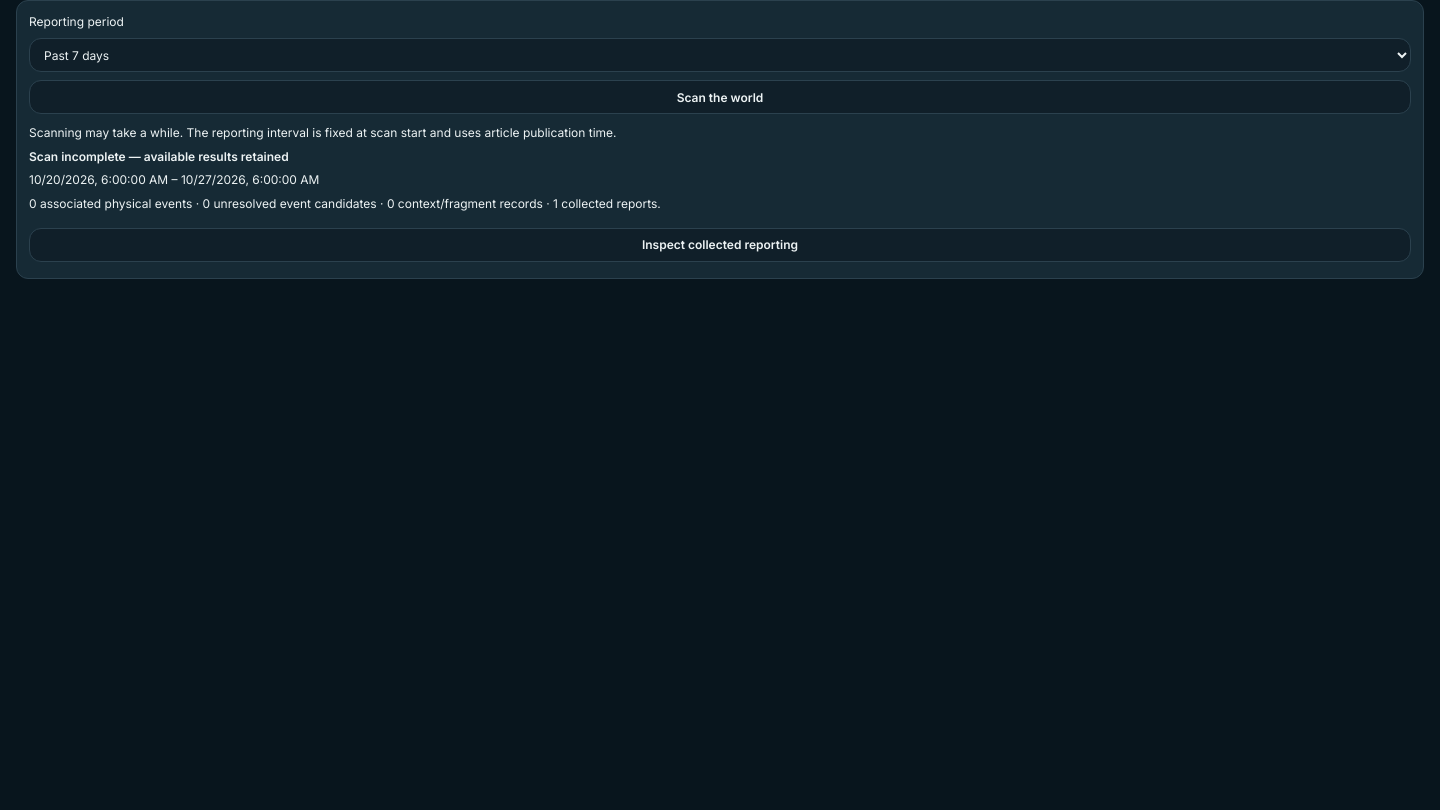
Scenario: keeps loaded reporting visible after a changed-catalog response and allows reload
Step 1. Click the button "Inspect collected reporting" → (720, 245), box [29, 228, 1411, 262]
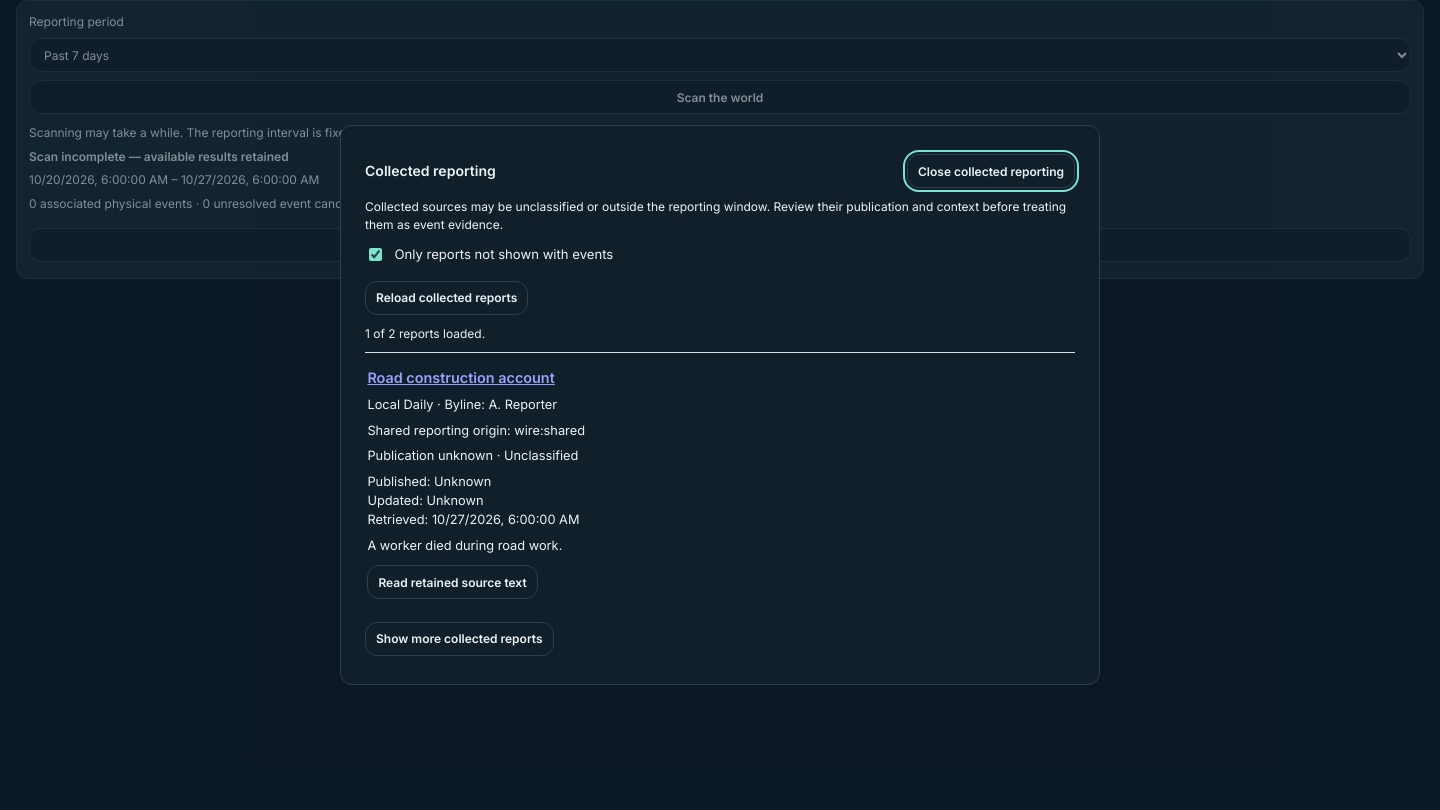
Now the element "Road construction account" is shown, box [365, 352, 1075, 618]
Step 2. Click the button "Show more collected reports" → (459, 639), box [365, 622, 554, 656]
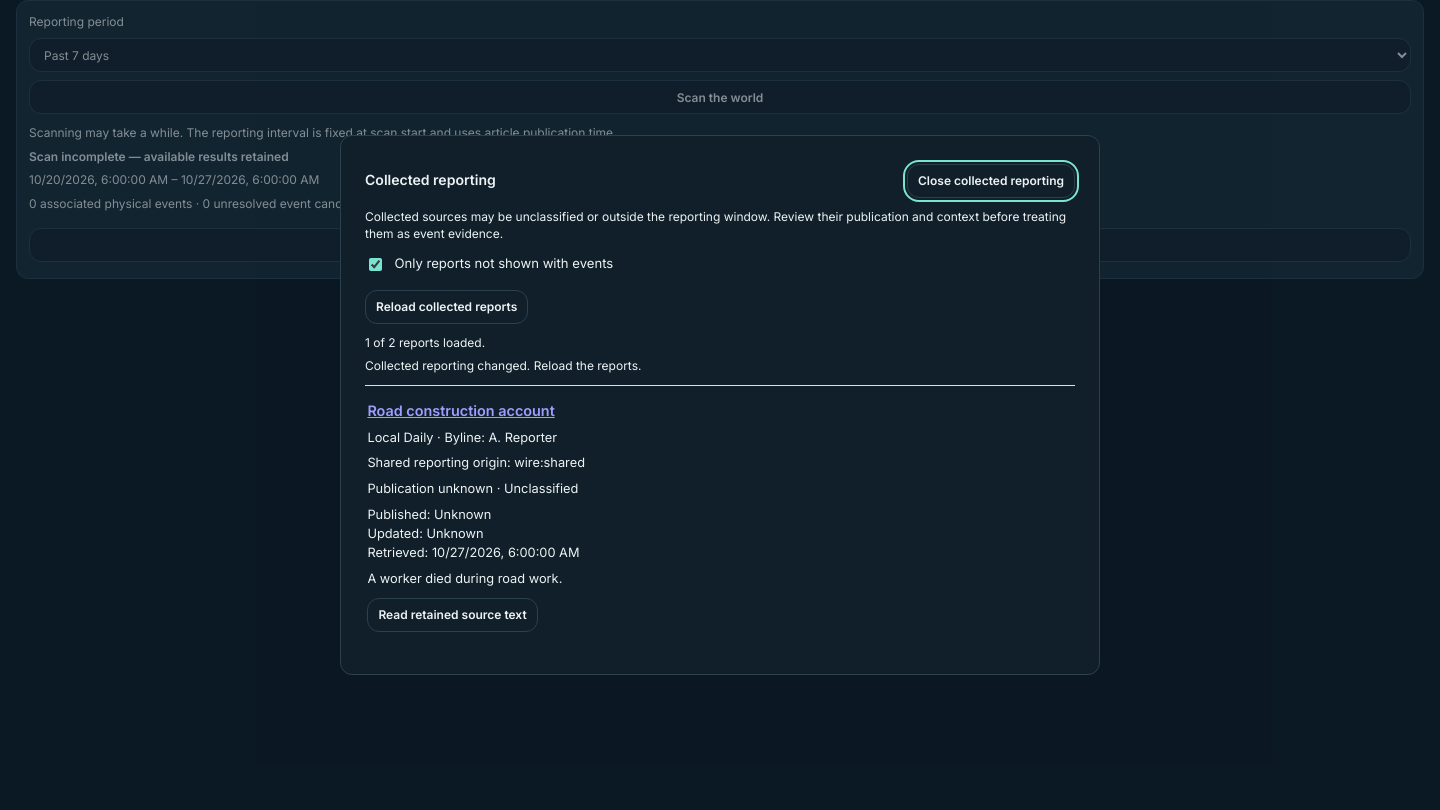
Now the element "Road construction account" is shown, box [365, 385, 1075, 650]
Now the message "Collected reporting changed. Reload the reports." is shown, box [365, 358, 642, 373]
Step 3. Click the button "Reload collected reports" → (447, 307), box [365, 290, 528, 324]
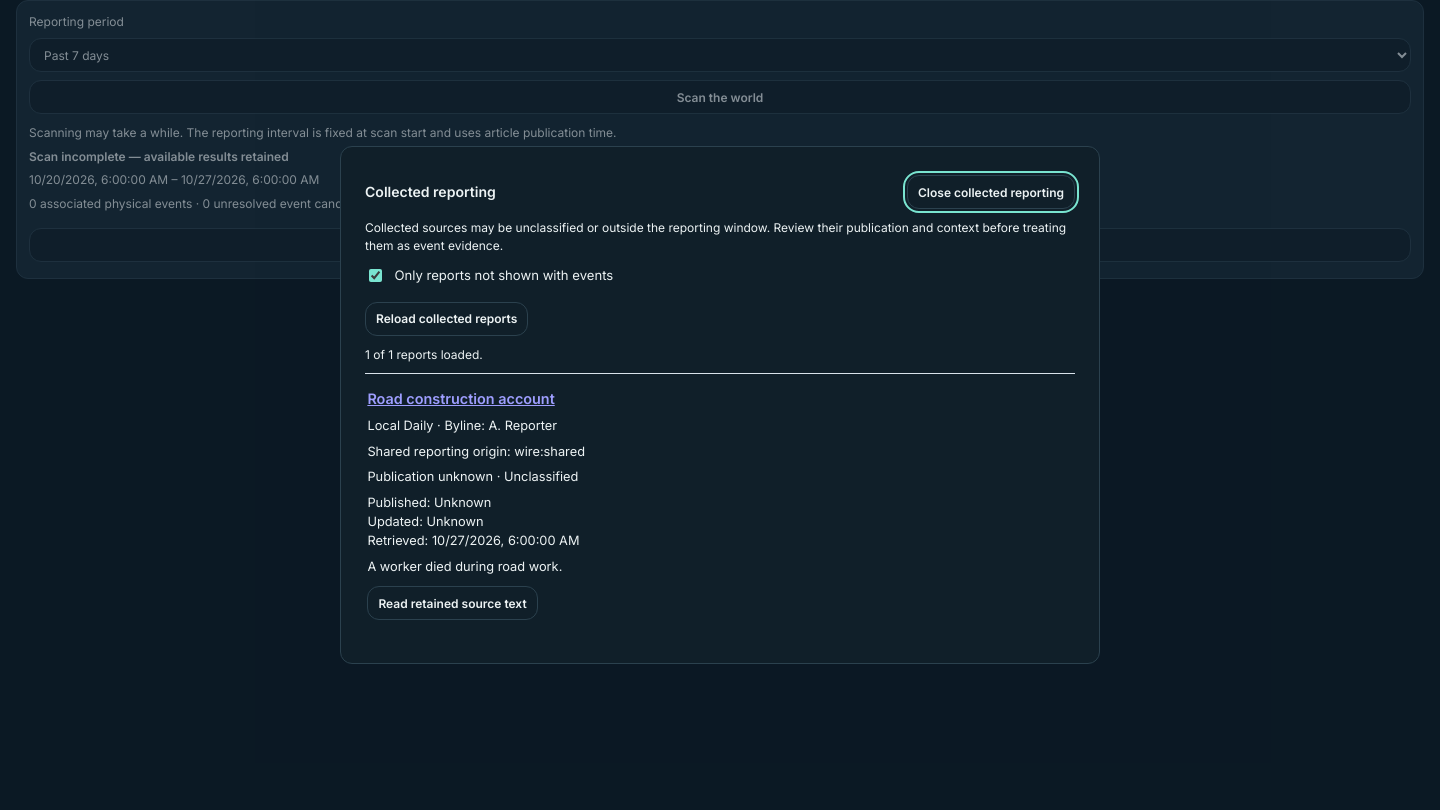
Now the text "1 of 1 reports loaded." is shown, box [365, 347, 483, 362]
Now the message "Collected reporting changed. Reload the reports." is gone
